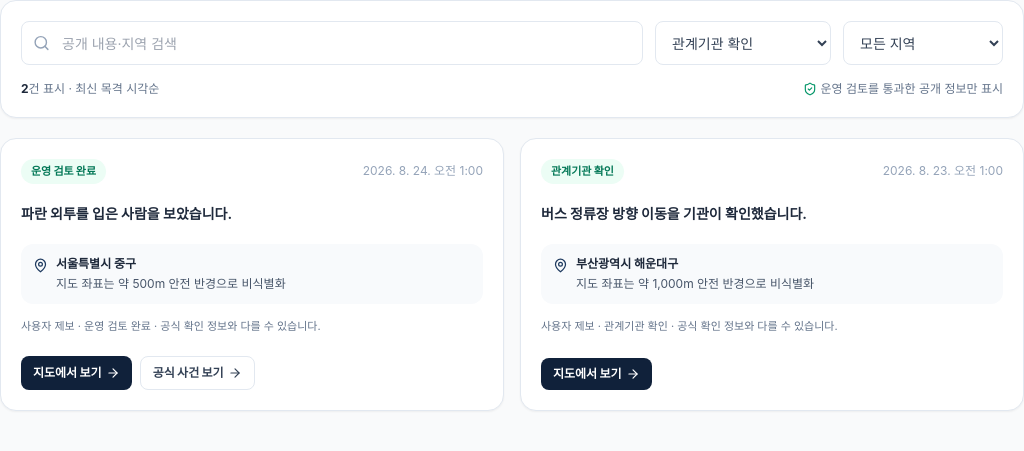
Test: PublicReportsPage safe public feed › filters the loaded public feed by status and region
This screenshot has width=1024, height=451.
Step 1. Select "관계기관 확인" in the 1st dropdown → (743, 43), box [655,21,831,65]
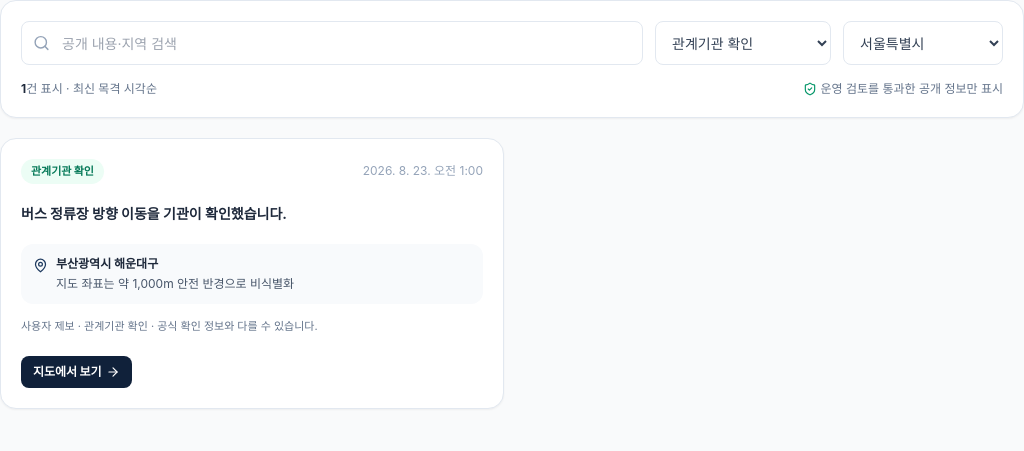
Expected: the text "기관이 확인했습니다." is shown, [21,204,287,222]
Now the text "파란 외투를 입은 사람을 보았습니다." is gone
Step 2. Select "서울특별시" in the 2nd dropdown → (923, 43), box [843,21,1003,65]
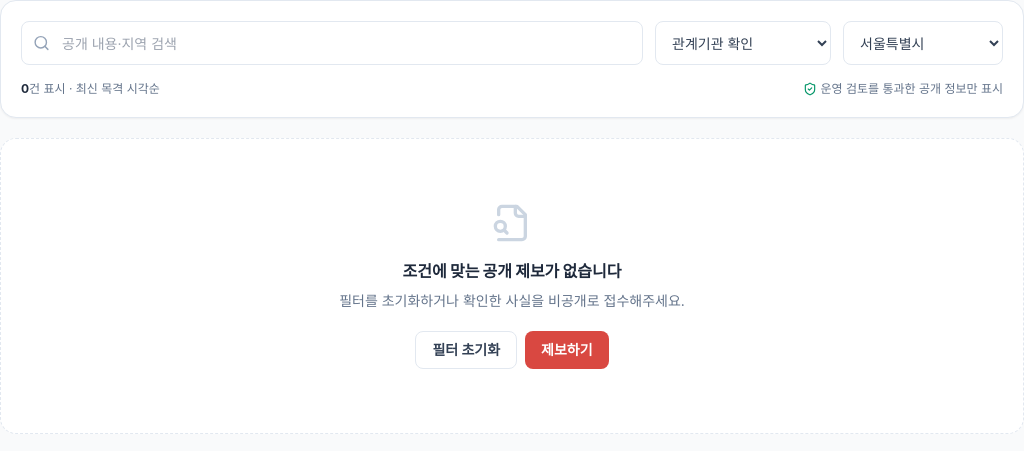
Now the text "조건에 맞는 공개 제보가 없습니다" is shown, box [403,261,621,281]
